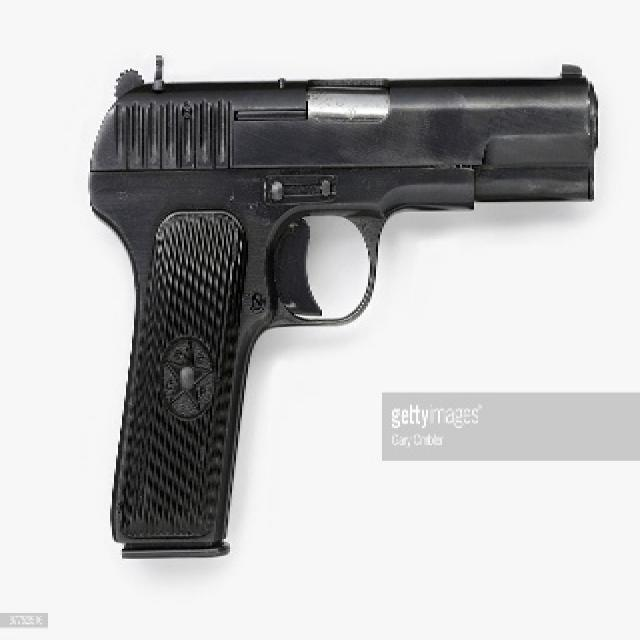weapon: (82, 50, 596, 558)
